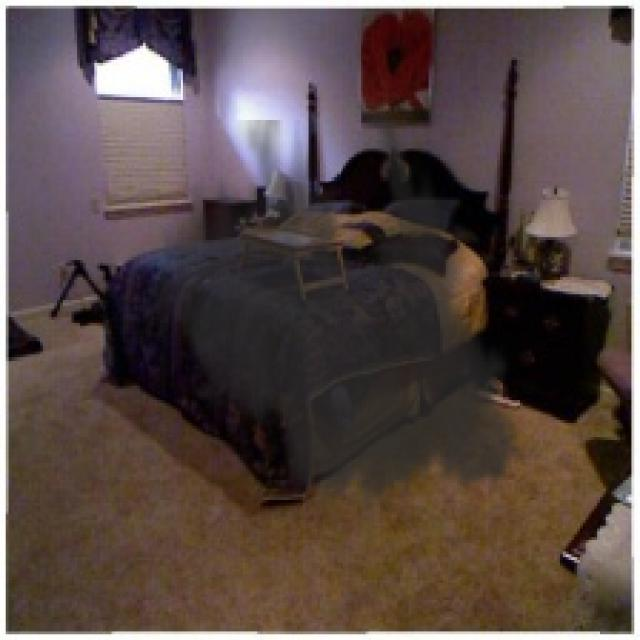smoke: (140, 120, 537, 523)
